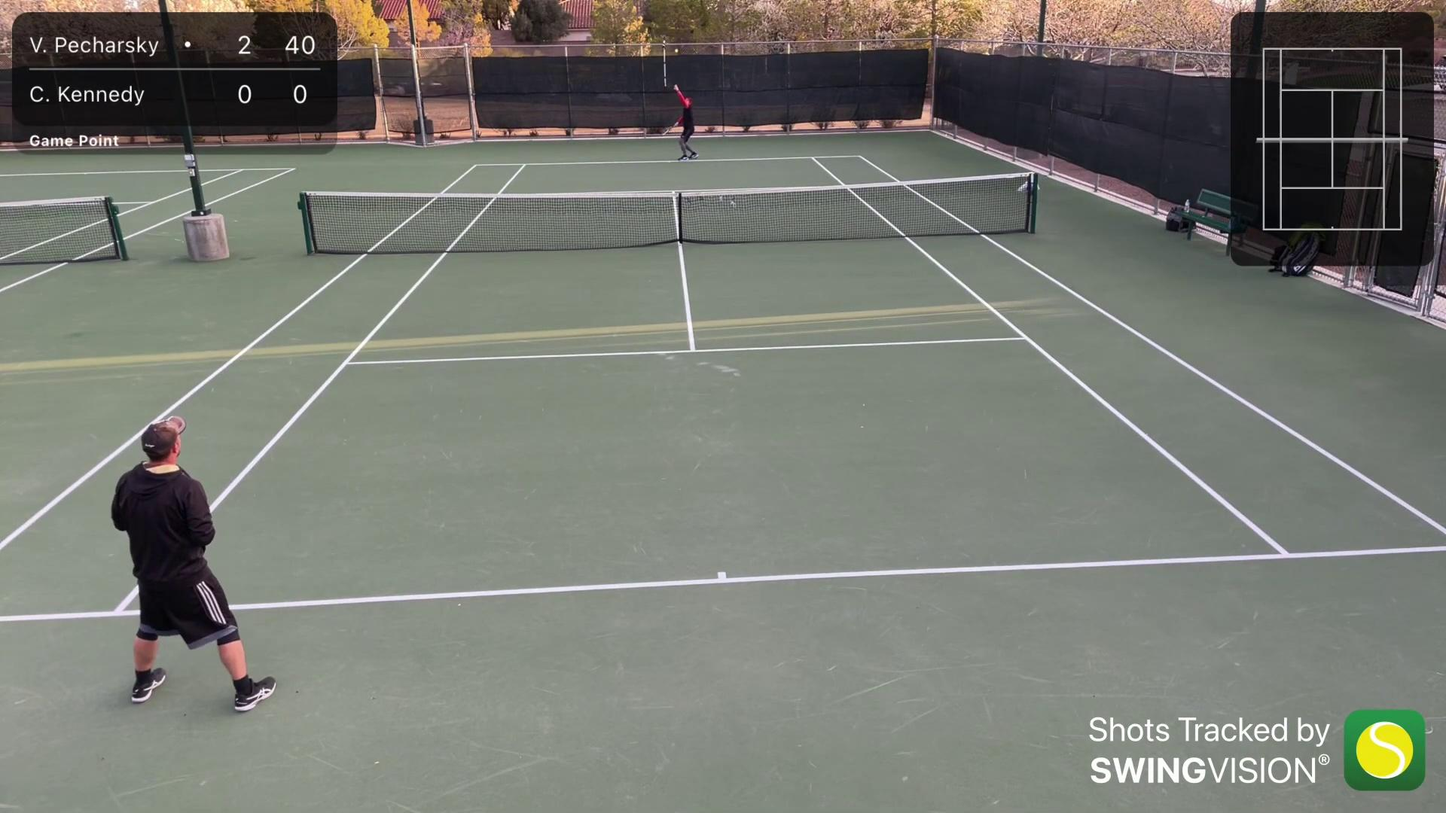ball: (672, 47, 680, 53)
